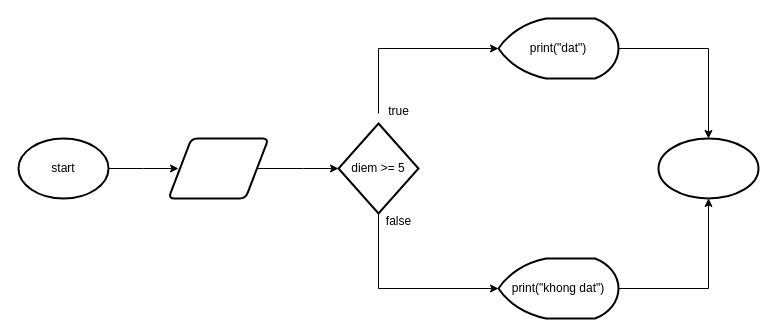
This 776x336 diagram has some shape labels left out. Here are the shapes that lost their labels. From the top down, the centre of each, then its label:
At (218,168): "nhap diem".
At (708,168): "end".
